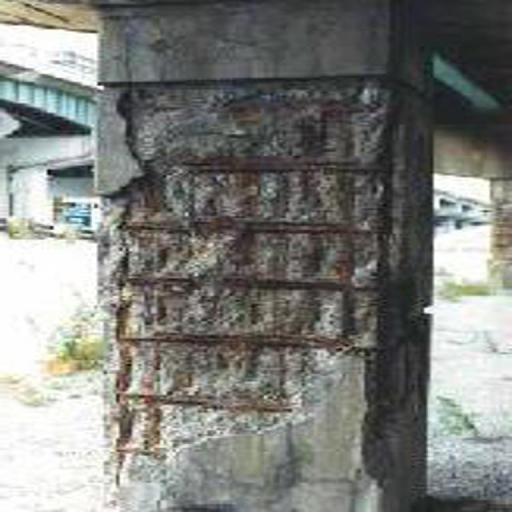spalling: (97, 84, 404, 482)
